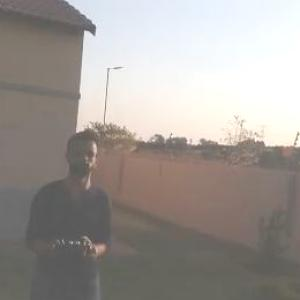follow: (25, 128, 127, 299)
